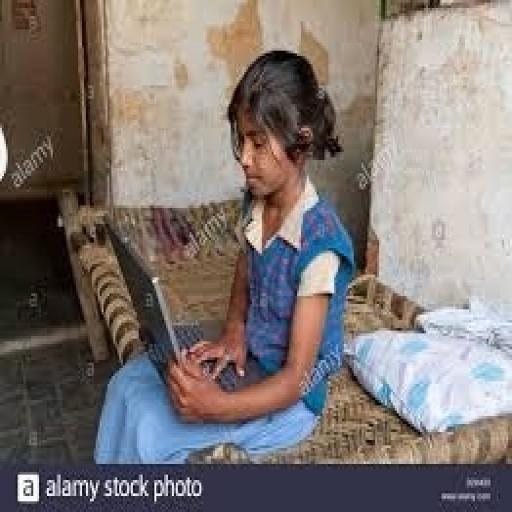using_laptop: (84, 195, 338, 437)
